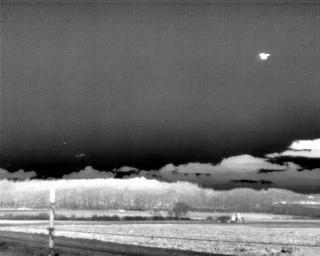DRONE: (256, 49, 273, 65)
